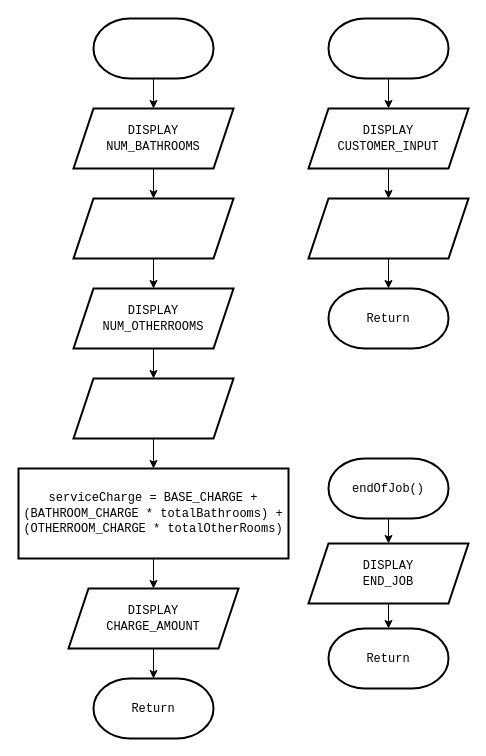
The diagram is 486 pixels wide and 756 high, and some of its shapes have lost their labels. The box of each missing label's shape, as (x1, y1, x2, y2) in pixels:
detailLoop(): (92, 17, 214, 79)
housekeeping(): (327, 17, 449, 79)
INPUT customerLastName: (307, 197, 469, 259)
INPUT totalBathrooms: (72, 197, 234, 259)
INPUT totalOtherRooms: (72, 377, 234, 439)
